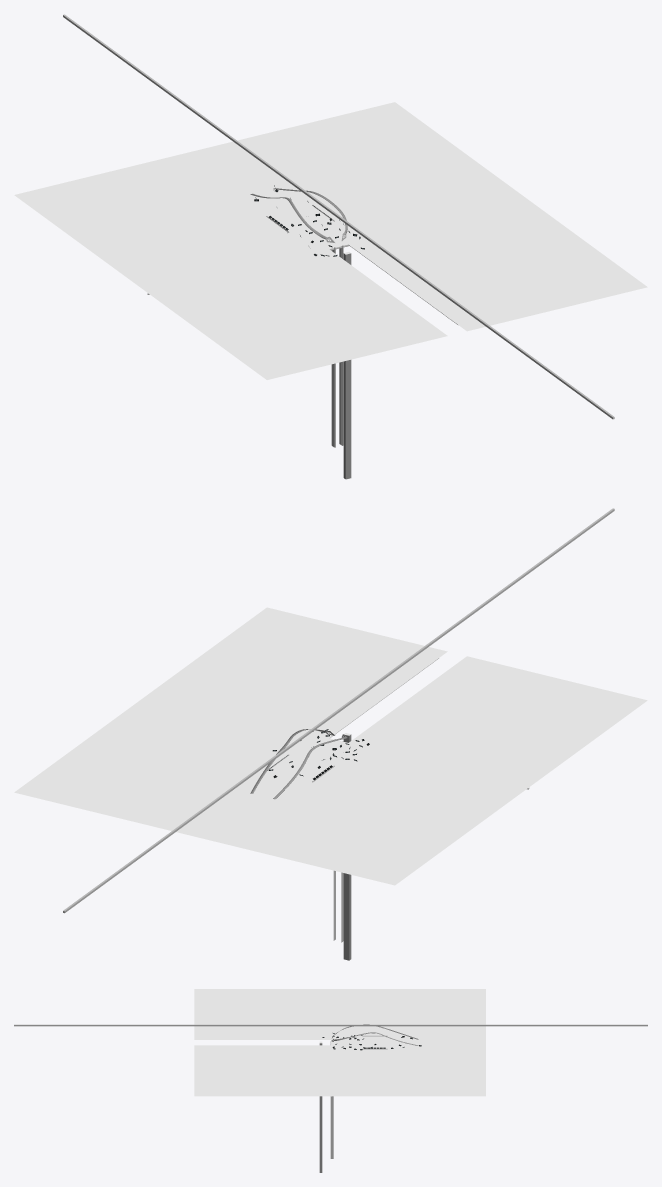
Rendered from kda.glb.
3 views of the same model, one above another, from view 1: azimuth 30°, elevation 25°; view 2: azimuth 150°, elevation 25°; view 3: azimuth 270°, elevation 25° (orthographic). The views are drawn at different scales.
Parts seen in each view (by area): view 1: FloorMirror, Construction (×2); view 2: FloorMirror, Construction (×2); view 3: FloorMirror, Construction (×2).
Part boxes in pixels (x1,y1,x2,y2): FloorMirror: (14,102,647,379); Construction (×2): (63,14,614,479); FloorMirror: (14,607,647,885); Construction (×2): (63,508,614,960); FloorMirror: (194,989,485,1096); Construction (×2): (14,1024,647,1172).
Bounding box in the file's own units: 200 × 128 × 500.
12 materials, 3 textured.
